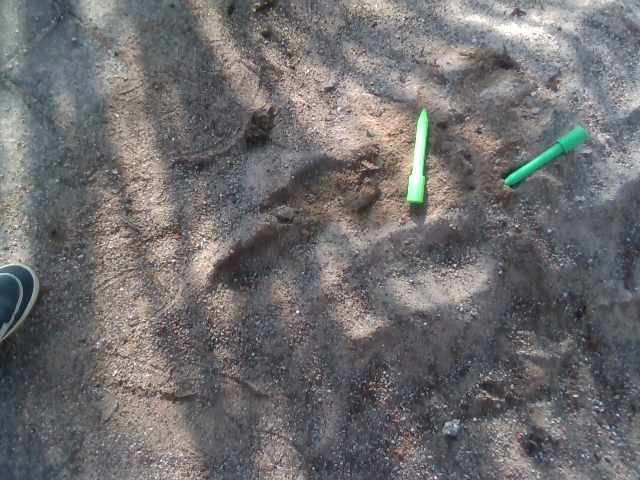Probe: (498, 120, 591, 190), (403, 102, 435, 206)
